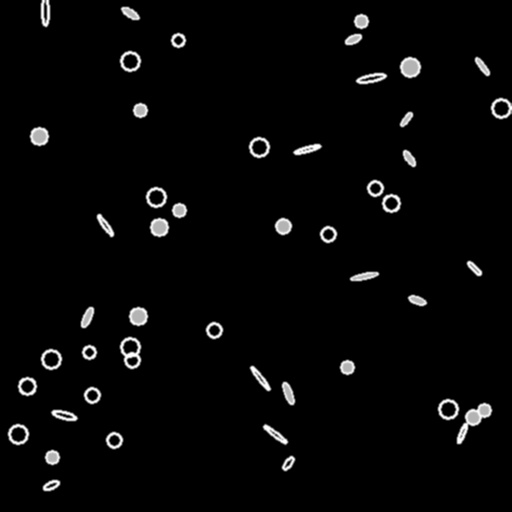pseudomonas: (249, 365, 271, 391), (262, 423, 288, 445), (96, 213, 114, 237), (356, 72, 386, 84), (281, 381, 295, 405), (474, 56, 490, 76), (120, 5, 140, 21), (294, 143, 320, 155), (51, 409, 77, 421), (80, 306, 94, 328), (350, 271, 378, 281), (466, 260, 482, 276), (402, 149, 416, 167), (456, 423, 468, 443), (281, 455, 295, 471), (399, 111, 413, 127), (42, 479, 60, 491), (344, 33, 362, 45), (41, 0, 49, 26), (408, 295, 426, 305)
synechocystis: (42, 350, 60, 368), (9, 425, 27, 443), (401, 58, 419, 76), (439, 400, 457, 418), (250, 138, 268, 156), (121, 338, 139, 356), (121, 52, 139, 70), (147, 188, 165, 206), (492, 99, 510, 117), (130, 308, 146, 324), (19, 378, 35, 394), (31, 128, 47, 144), (151, 219, 167, 235), (383, 195, 399, 211), (85, 388, 99, 402), (368, 181, 382, 195), (107, 433, 121, 447), (321, 227, 335, 241), (276, 219, 290, 233), (207, 323, 221, 337), (466, 410, 480, 424), (125, 353, 139, 367), (46, 451, 58, 463), (83, 346, 95, 358), (173, 204, 185, 216), (341, 361, 353, 373), (134, 104, 146, 116), (172, 34, 184, 46), (355, 15, 367, 27), (478, 404, 490, 416)
